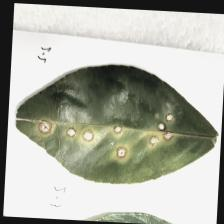canker: (26, 97, 186, 162)
